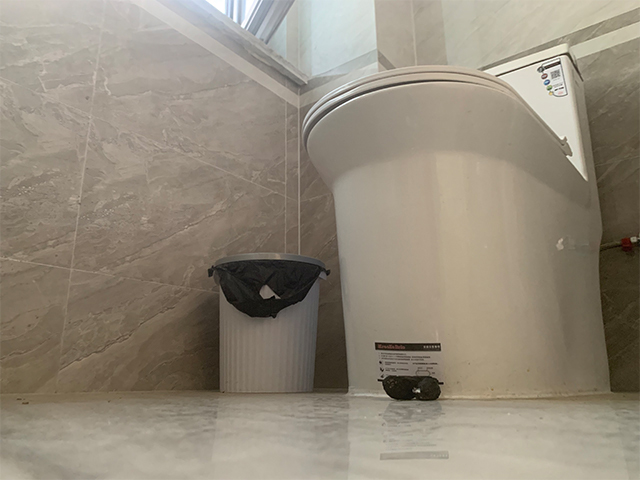closestool: (300, 43, 613, 400)
feces: (382, 375, 442, 402)
trashcan: (212, 251, 329, 394)
